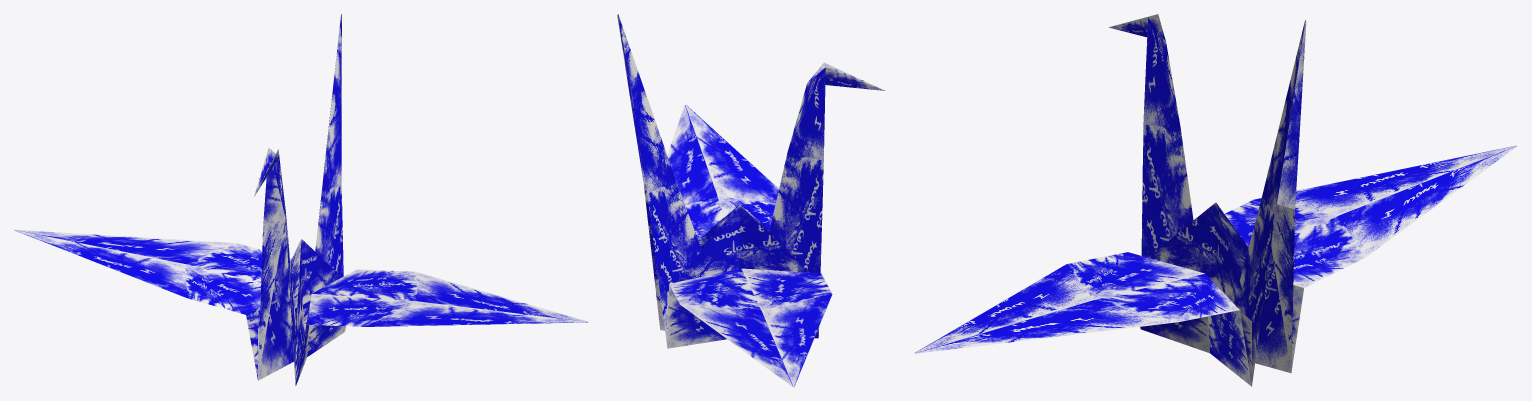
Rendered from crane109.glb.
3 renders of one model, left to right at view 1: azimuth 30°, elevation 25°; view 2: azimuth 150°, elevation 25°; view 3: azimuth 270°, elevation 25°, orthographic. The views are drawn at different scales.
Visible parts, largest first — view 1: 角锥_1; view 2: 角锥_1; view 3: 角锥_1.
Part boxes in pixels (x1,y1,x2,y2): 角锥_1: (14, 14, 588, 385); 角锥_1: (617, 14, 885, 386); 角锥_1: (915, 14, 1517, 386).
Size of the model in its own units: 2.96 by 2.5 by 3.62.
1 material, 1 textured.
